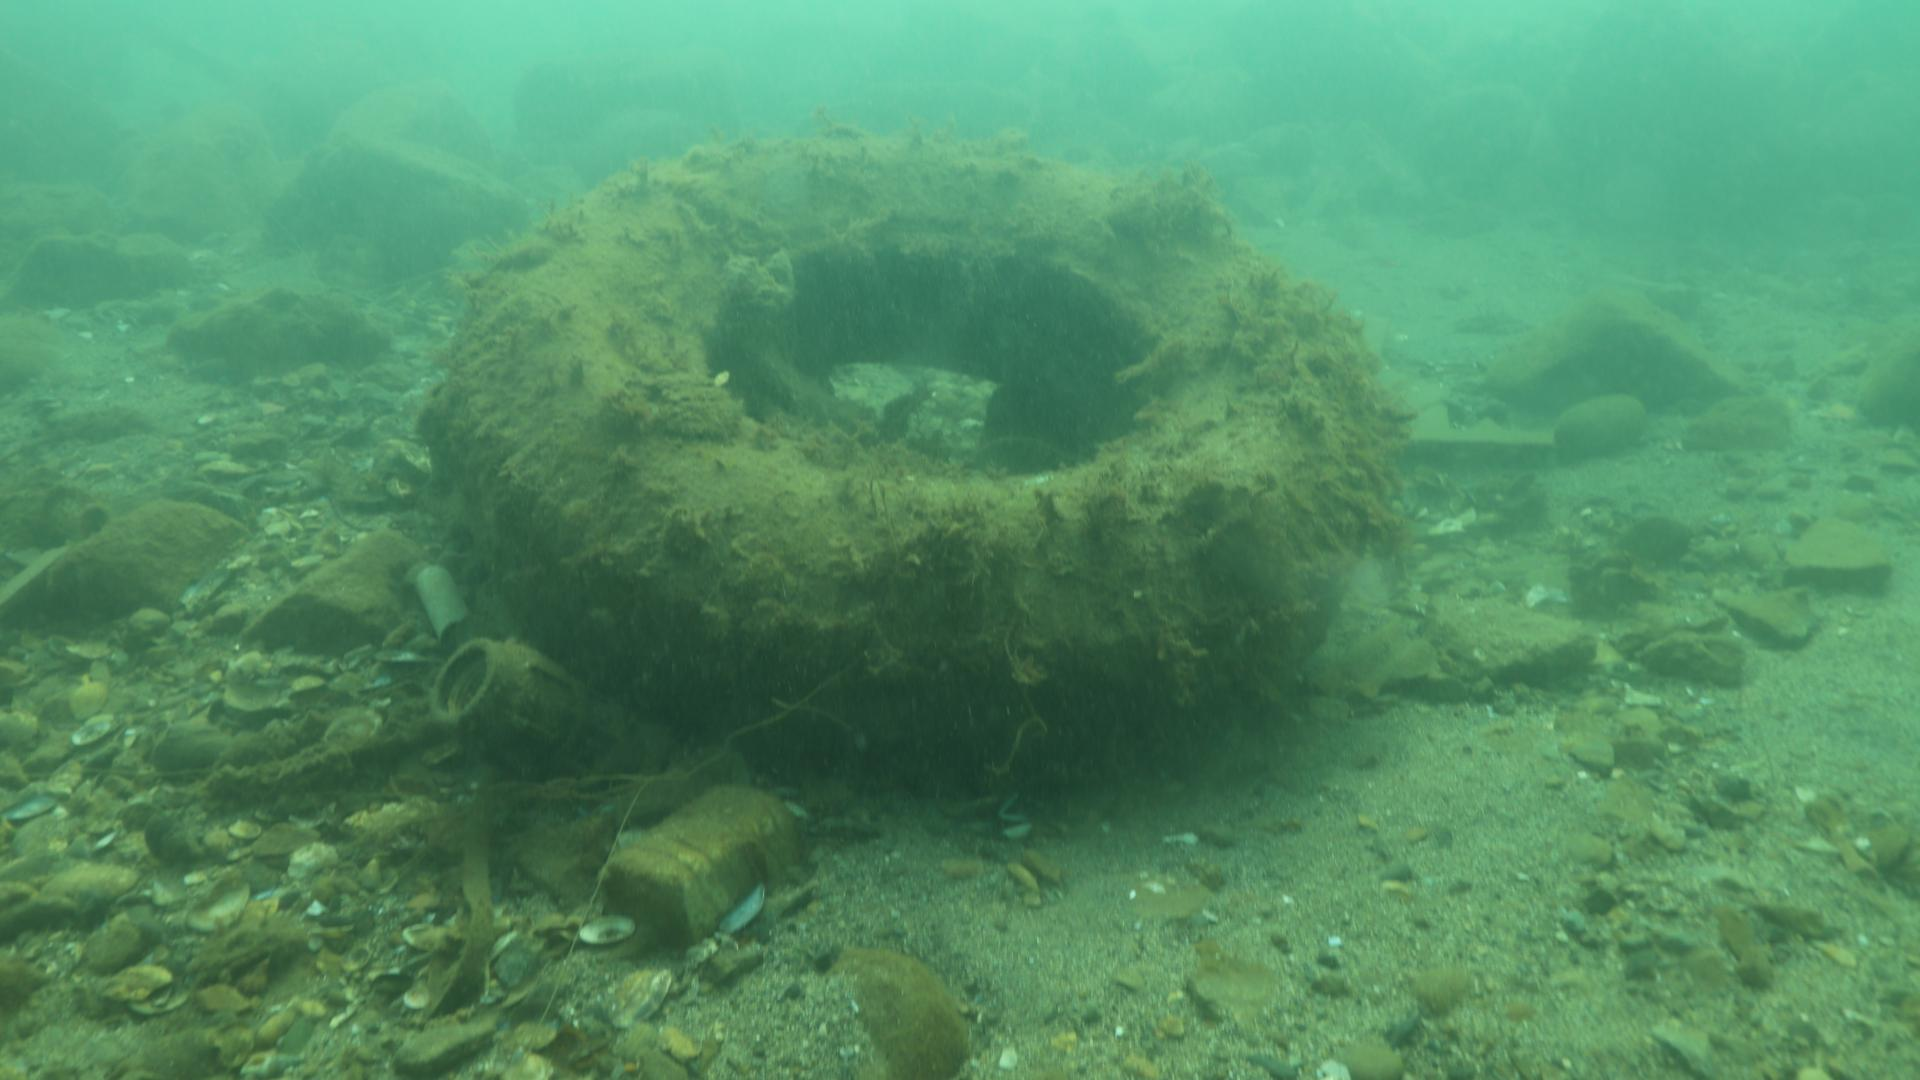tire: (444, 132, 1375, 798)
